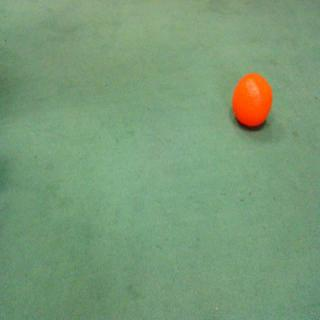orange: (220, 63, 275, 139)
